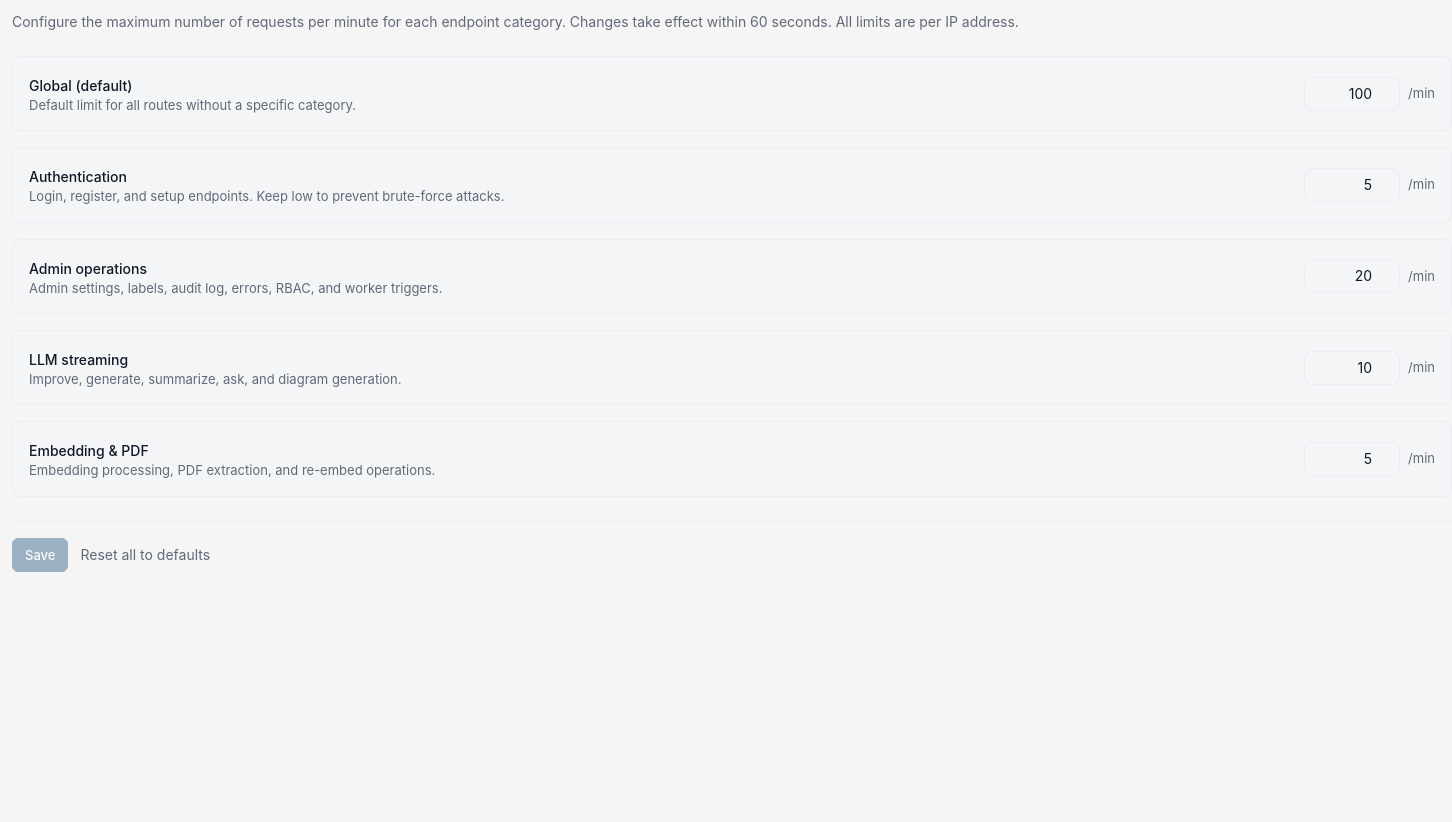
Scenario: RateLimitsTab › save button enables after changing a value
Replace the text in the number field with test id "rate-limit-rateLimitAuth" with "50": (1352, 185) 1304,168 -> 1400,202
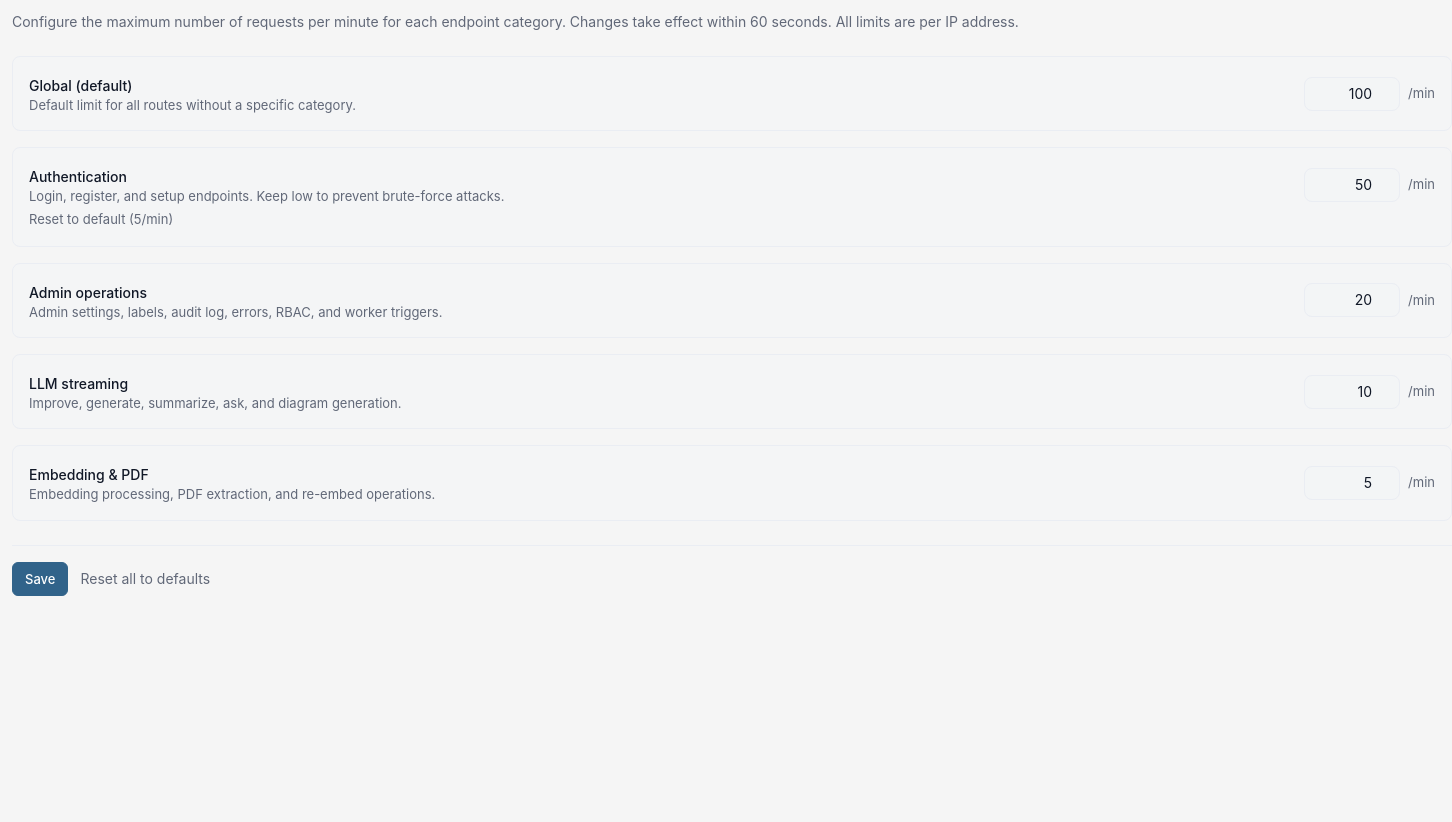
Expected: the button with test id "rate-limits-save-btn" is enabled, 12,562 -> 68,596
